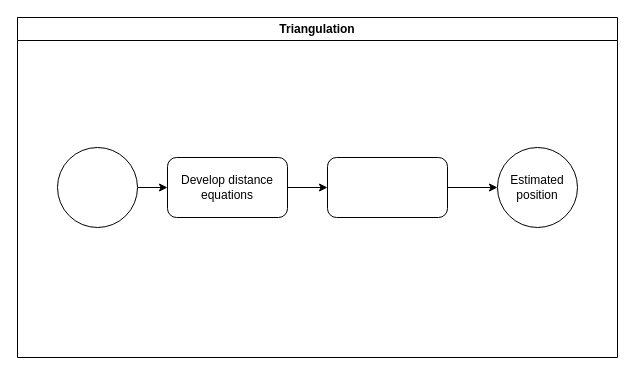
Image size: 635x375. Some labels were removed from this diagram. The shapes that lost their labels are listed below. From the top down, each one's centre as x and y in pixels, then its label:
(97,187): Estimated time delays
(387,187): Solving equations
